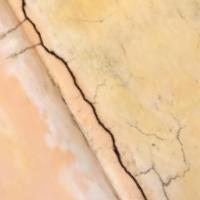crack: (18, 0, 151, 199)
